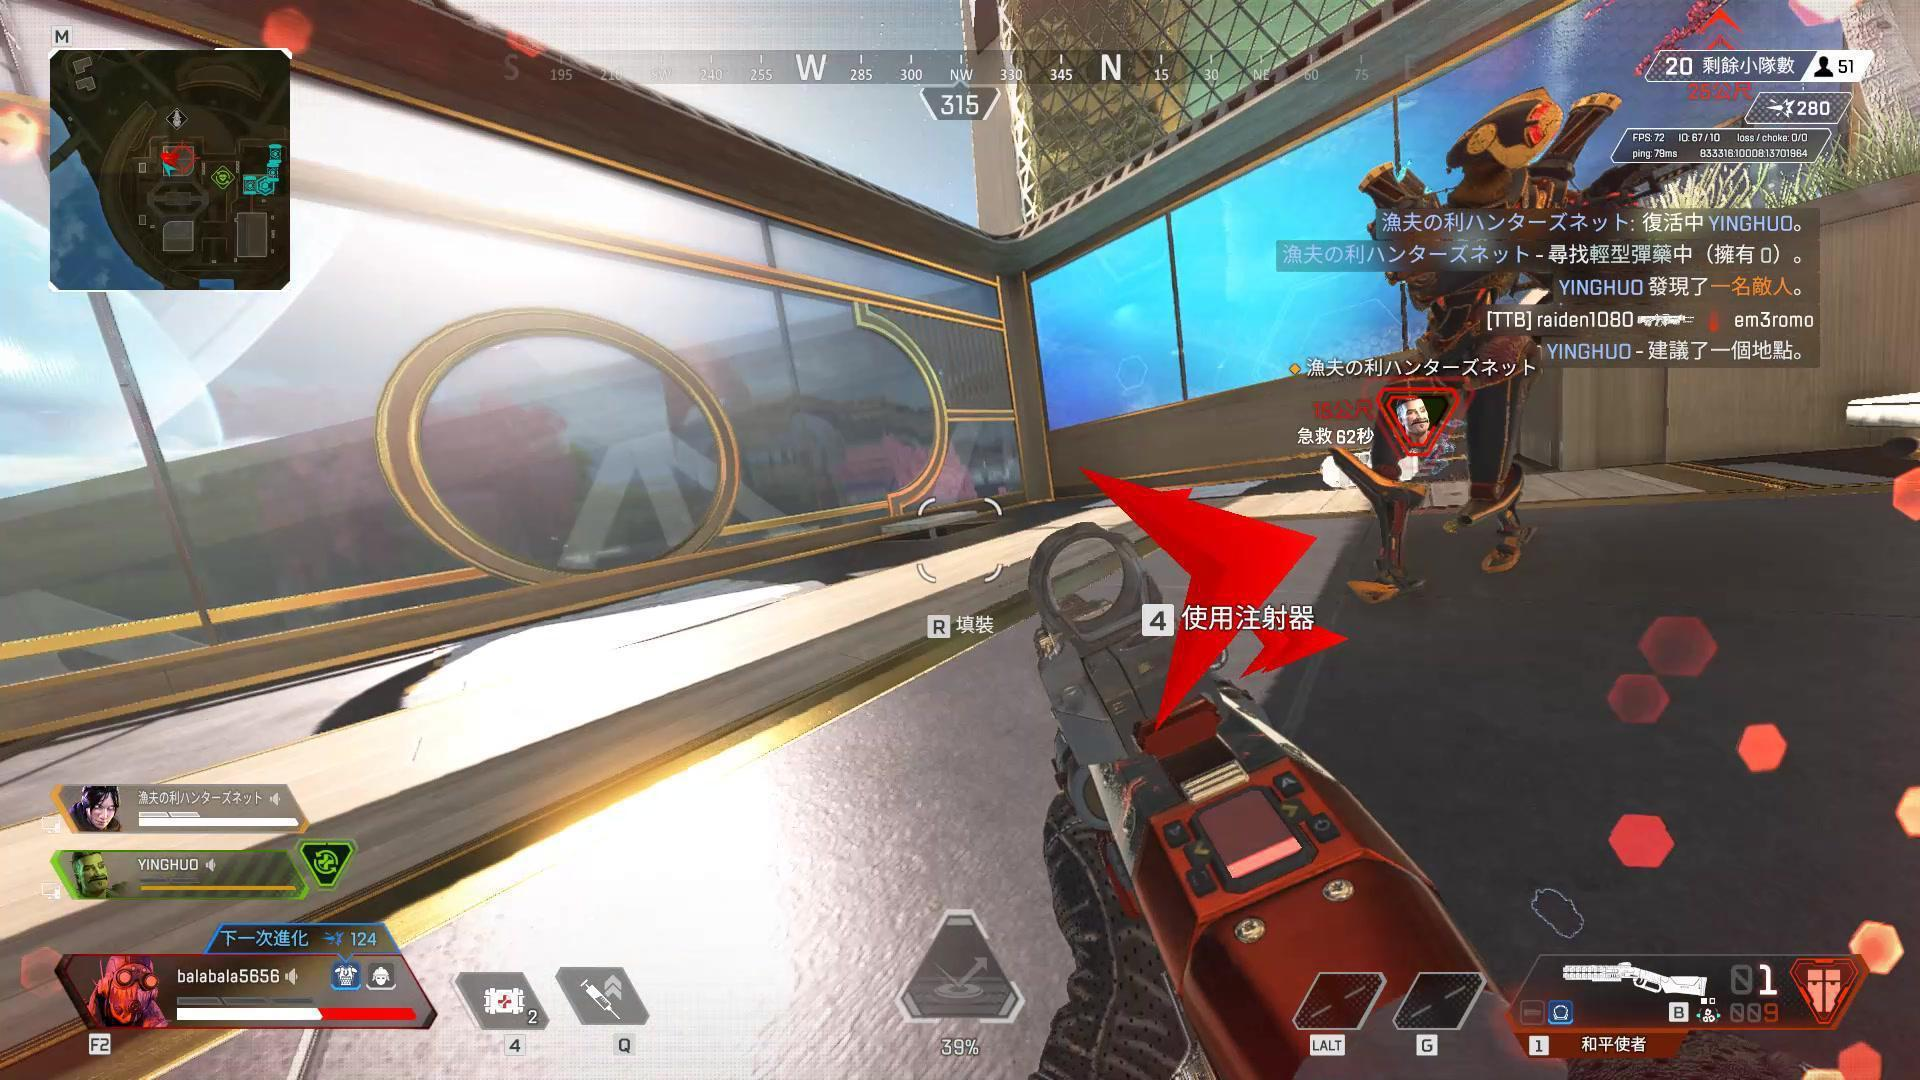avatar: (1351, 84, 1578, 605)
